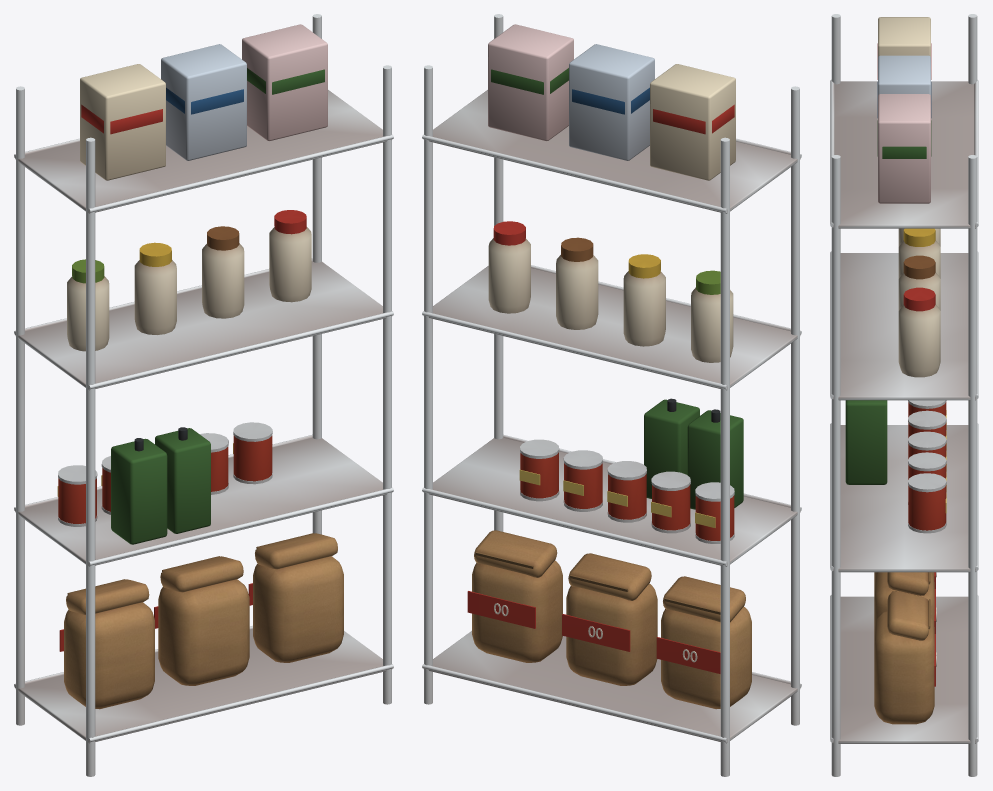
The model's file is fp-drystore.gltf.
3 renders of one model, left to right at view 1: azimuth 30°, elevation 25°; view 2: azimuth 150°, elevation 25°; view 3: azimuth 270°, elevation 25°, orthographic. The views are drawn at different scales.
Visible parts, largest first — view 1: model; view 2: model; view 3: model.
Part boxes in pixels (bbox=[...]): model: bbox=[14, 14, 393, 776]; model: bbox=[422, 14, 801, 776]; model: bbox=[830, 14, 978, 776].
Size of the model in its own units: 0.9028 by 1.85 by 0.392.
Materials: 22 (1 with a texture image).
